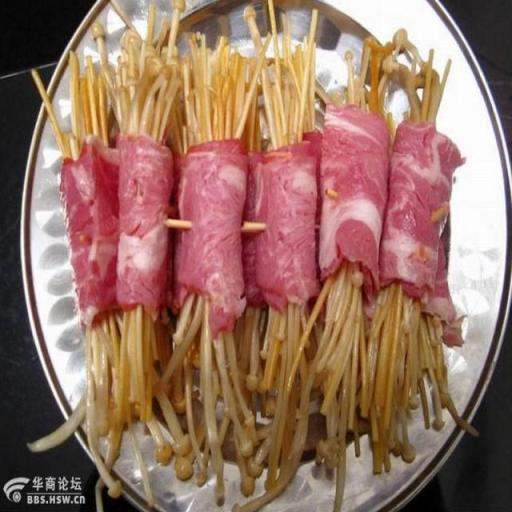Enoki Mushroom: (378, 22, 478, 462), (178, 28, 256, 496), (317, 30, 394, 502), (39, 46, 126, 449), (250, 6, 319, 494), (112, 25, 181, 431)
